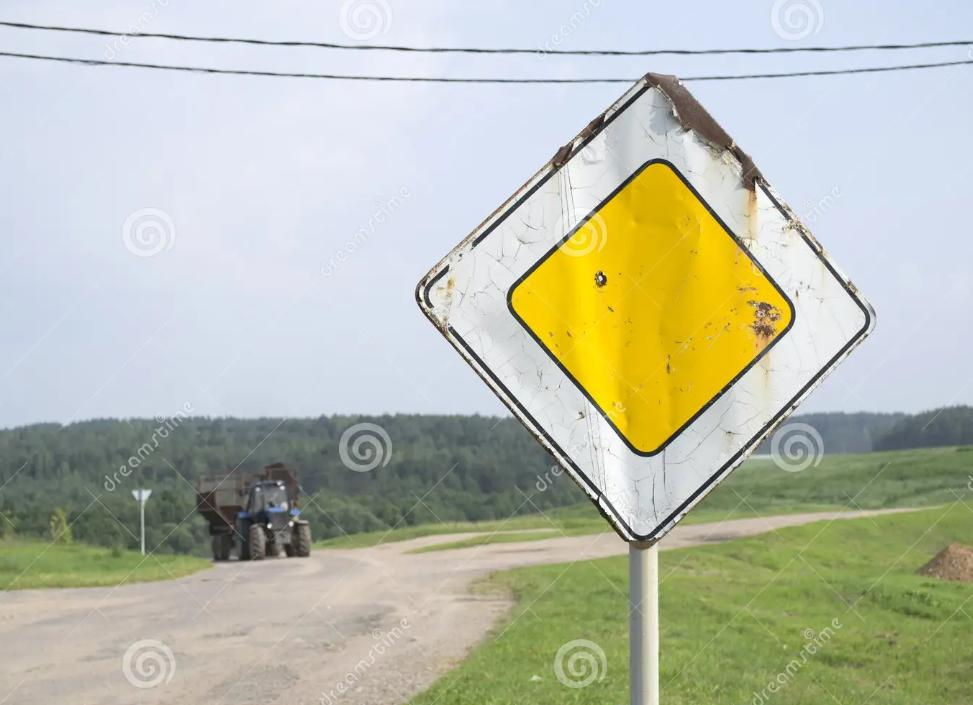obstructed_road_sign: (413, 71, 879, 551)
